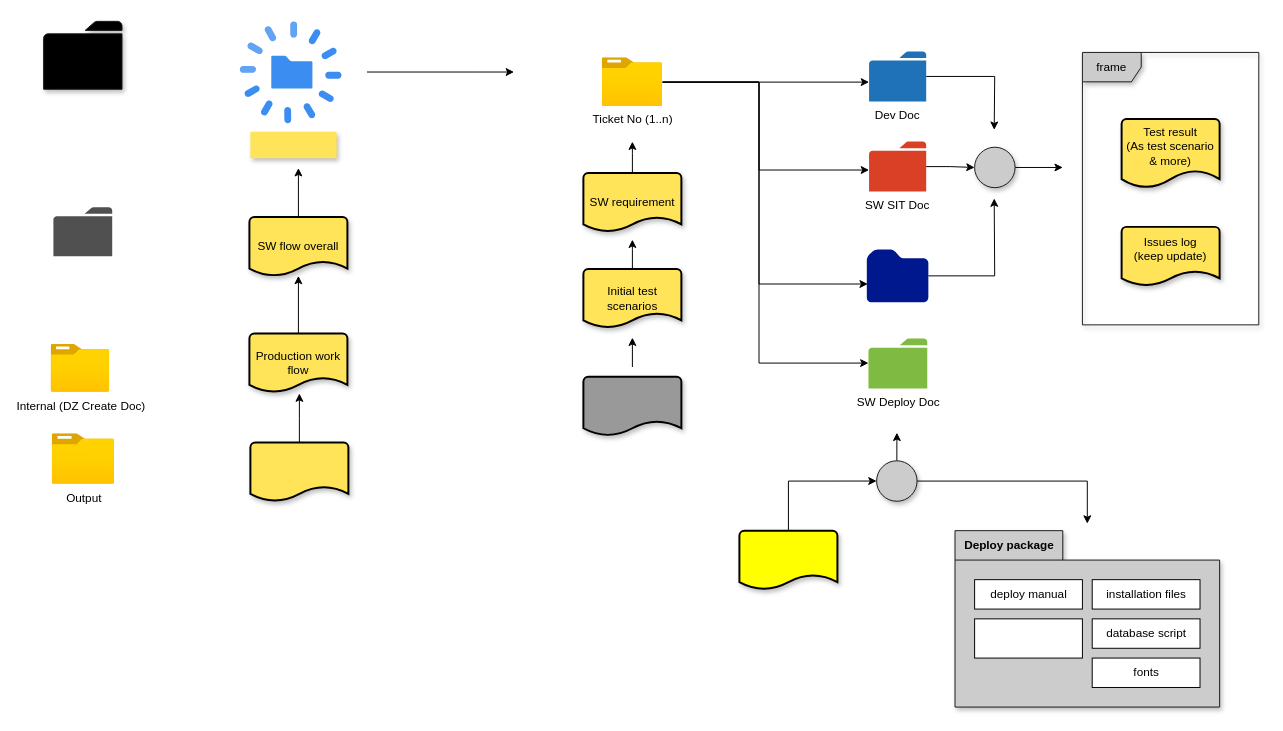
Image size: 1283x731. Some labels were removed from this diagram. Each missing label, with the centre of its shape:
Concern issues: point (300, 473)
Deploy issues (if any): point (789, 561)
Input from customer (requirement): point (82, 231)
PCI Doc (Optional): point (633, 407)
Project 1: point (83, 56)
Software Doc: point (294, 146)
SW UAT Doc: point (897, 275)
user manual (optional): point (1028, 638)
